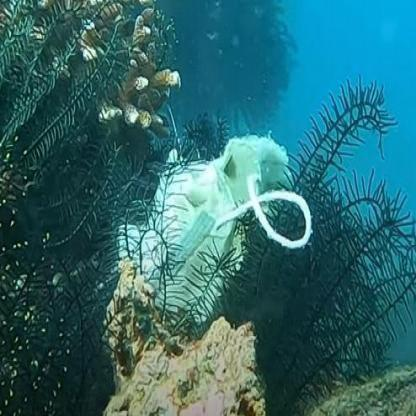plastic: (148, 124, 312, 274)
